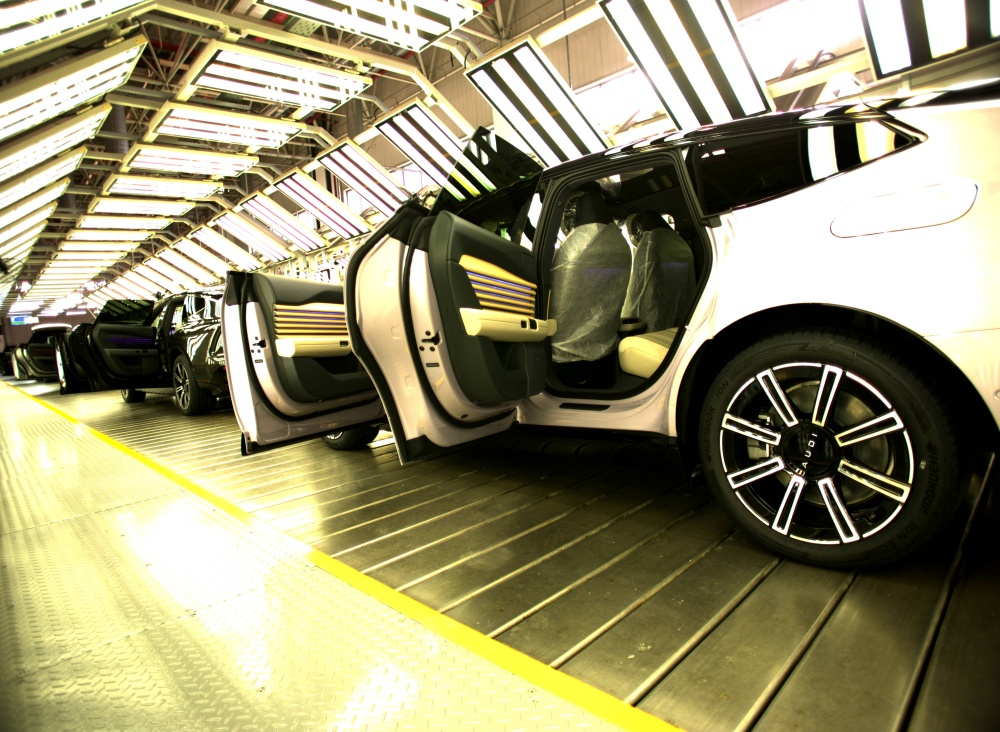armrest_color: (464, 308, 557, 348), (275, 332, 354, 357)
panel_color: (455, 251, 539, 317), (269, 301, 350, 331)
